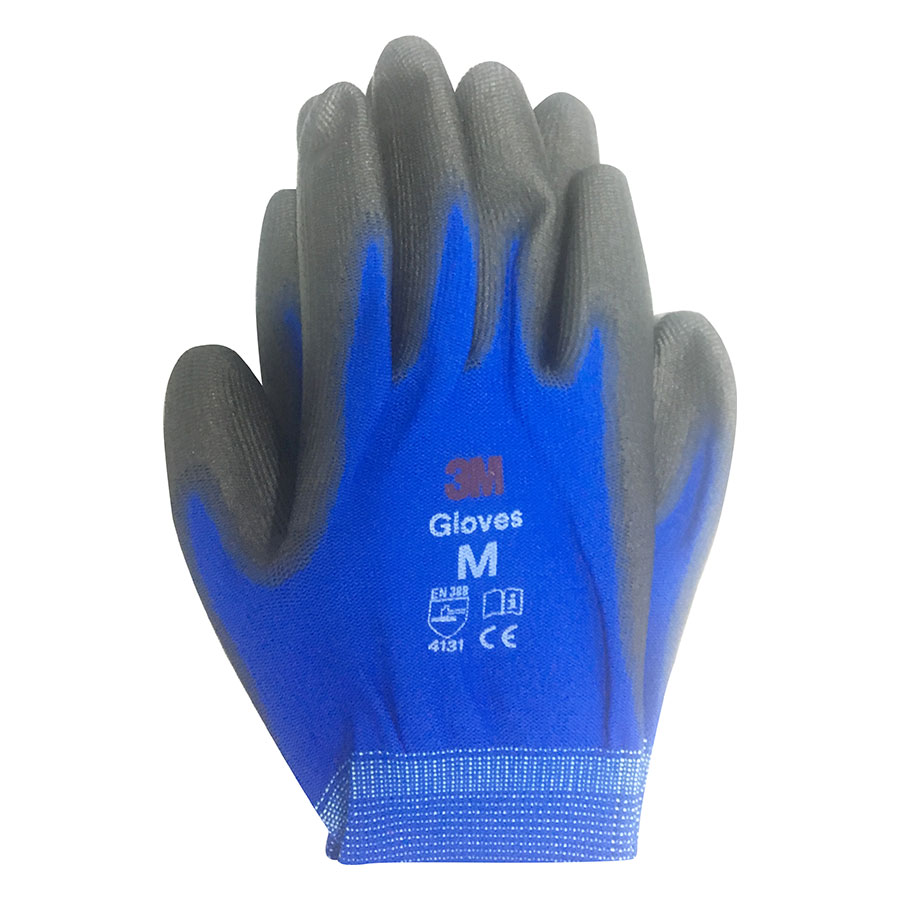3M: (438, 449, 510, 507)
